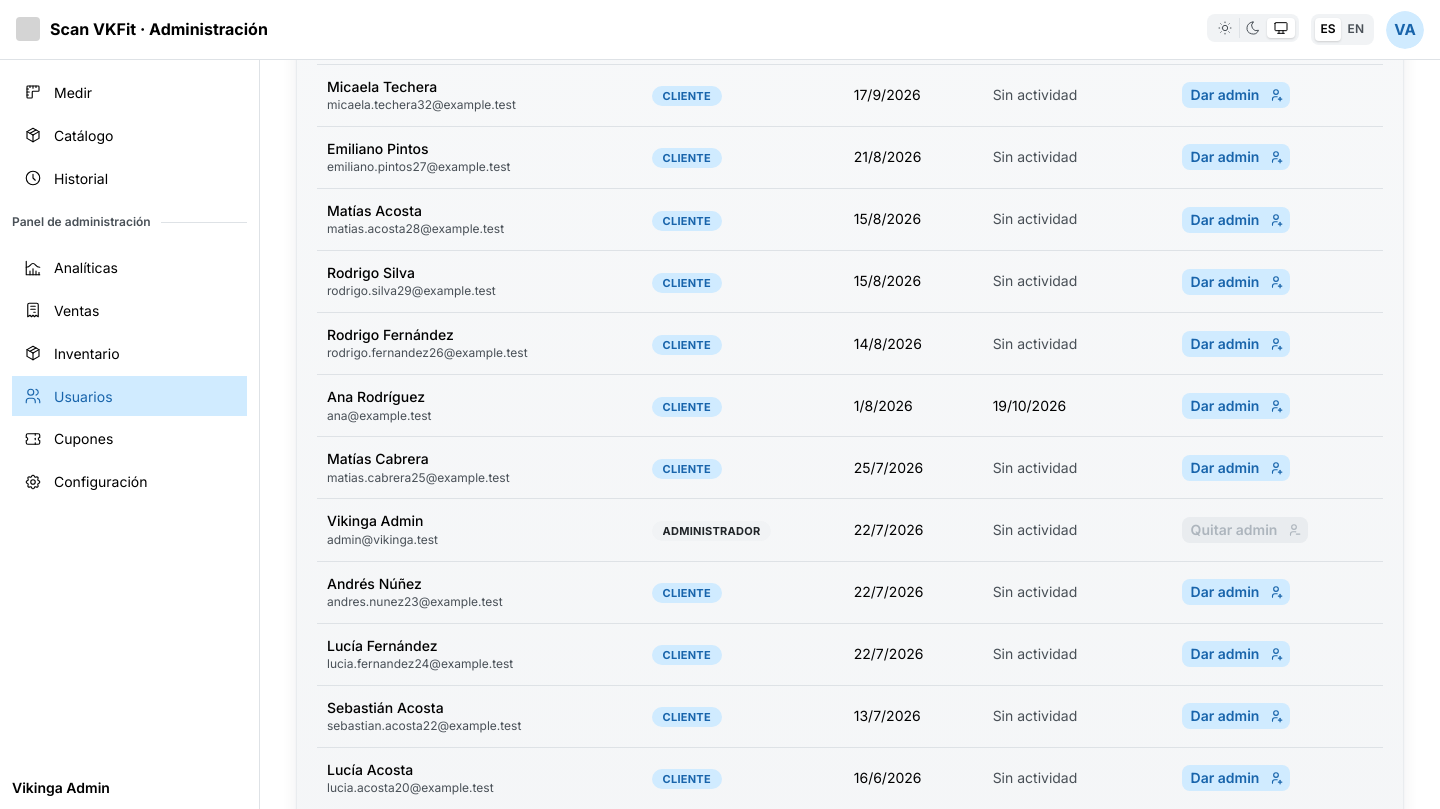
Test: cuentas y roles › otorga admin sin recargar la lista
(page scrolled)
Step 1. Click the button "Dar admin" in the row of "Ana Rodríguez" → (1236, 406), box [1182,393,1290,419]
(page scrolled)
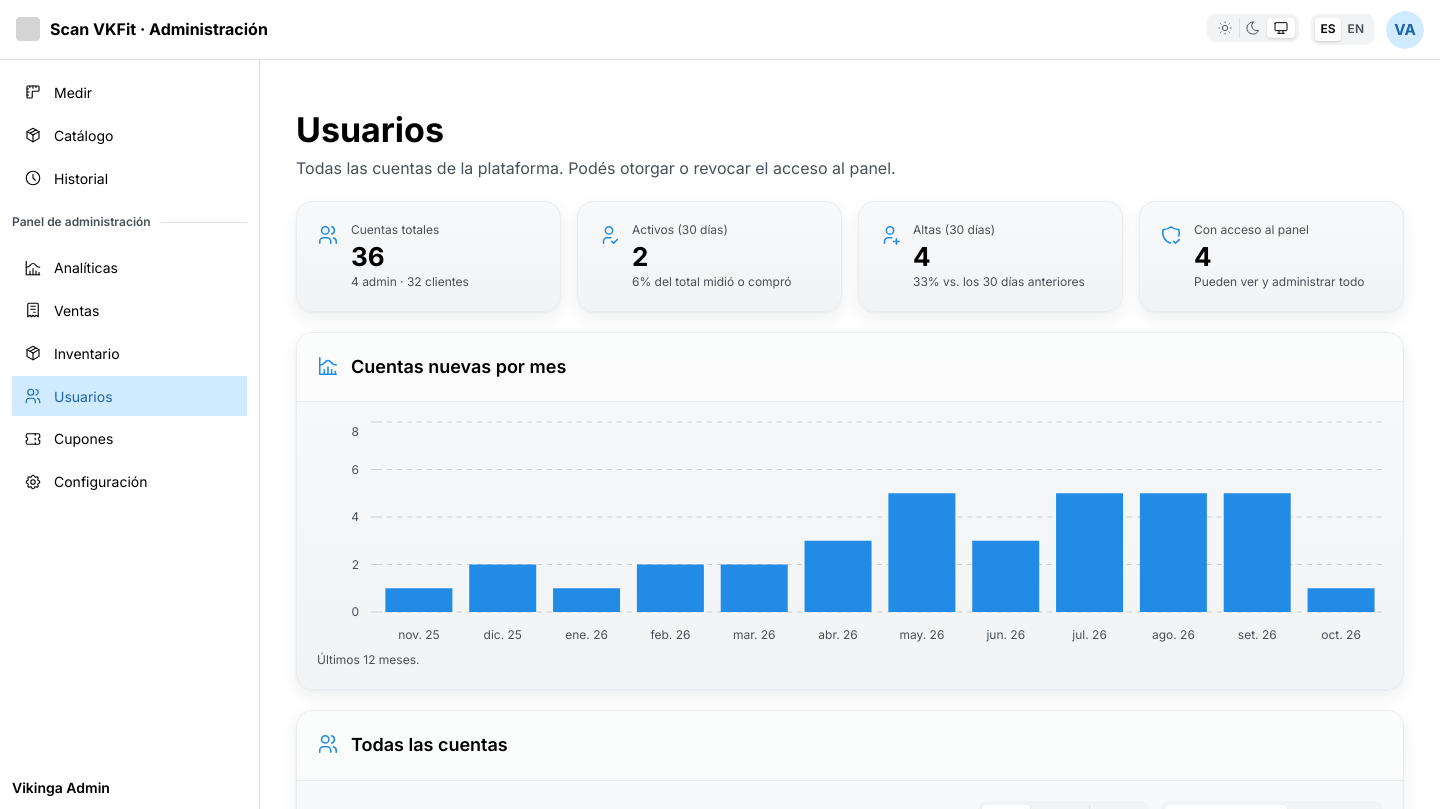
Now the text "4 admin · 32 clientes" is shown, box [351,274,469,291]
